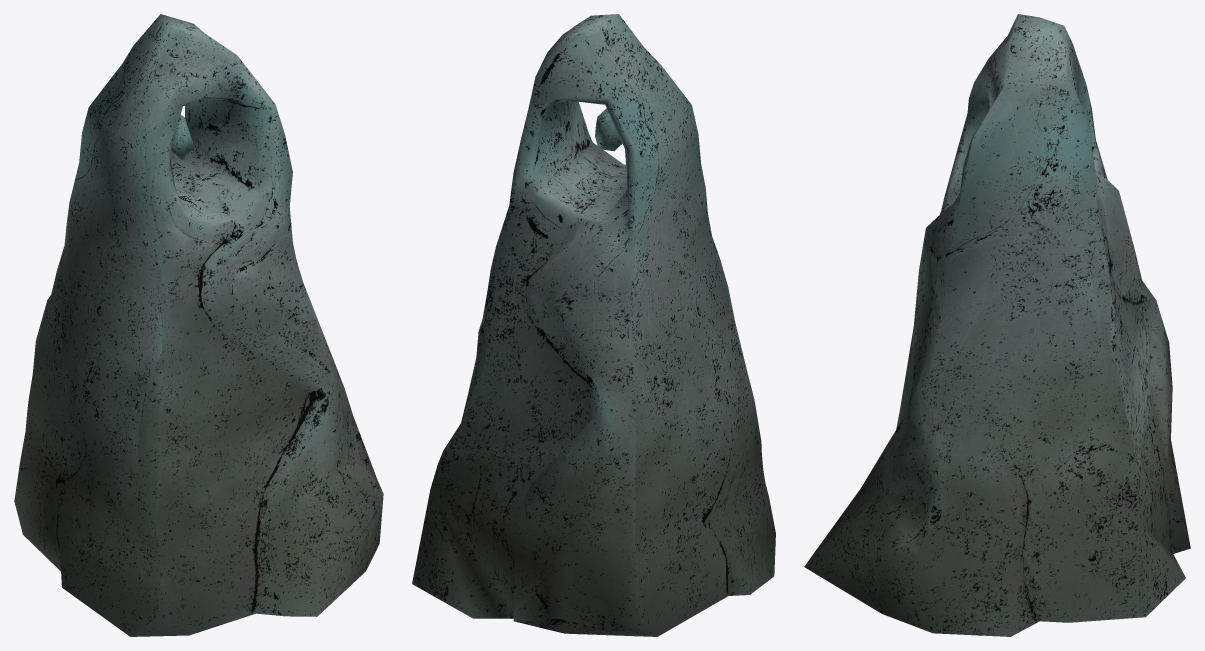
File: MagicStone.fbx
The picture shows the model from 3 angles, left to right: view 1: azimuth 30°, elevation 25°; view 2: azimuth 150°, elevation 25°; view 3: azimuth 270°, elevation 25°; orthographic projection. The views are drawn at different scales.
Parts seen in each view (by area): view 1: MagicStone_LOD0; view 2: MagicStone_LOD0; view 3: MagicStone_LOD0.
Boxes of the visible parts, x1,y1,x2,y2 form: MagicStone_LOD0: (14,14,383,636); MagicStone_LOD0: (412,14,775,636); MagicStone_LOD0: (804,14,1190,636).
Size of what is drawn, in the model's own units: 142 by 252 by 158.
1 material, 1 textured.
